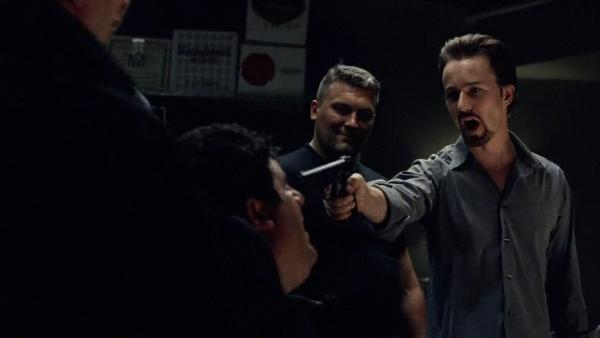Gun: (299, 156, 360, 213)
